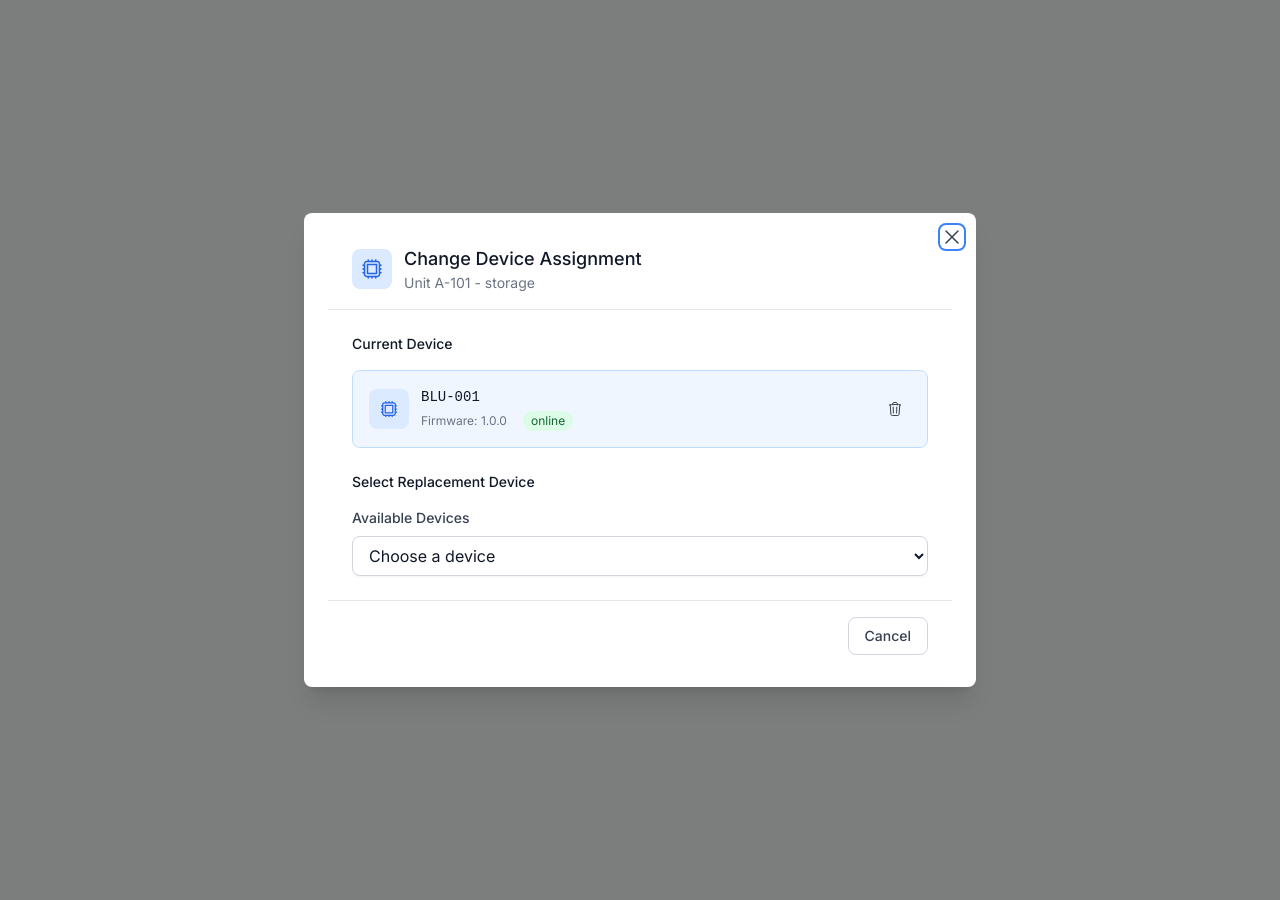
DeviceAssignmentModal › Change Device Flow › should show "Change Device" button when unit has device and new device selected
# Select a new device
Select "BLU-002 (v1.1.0) - Test Facility - online" in the dropdown: (640, 556) [352,536,928,576]
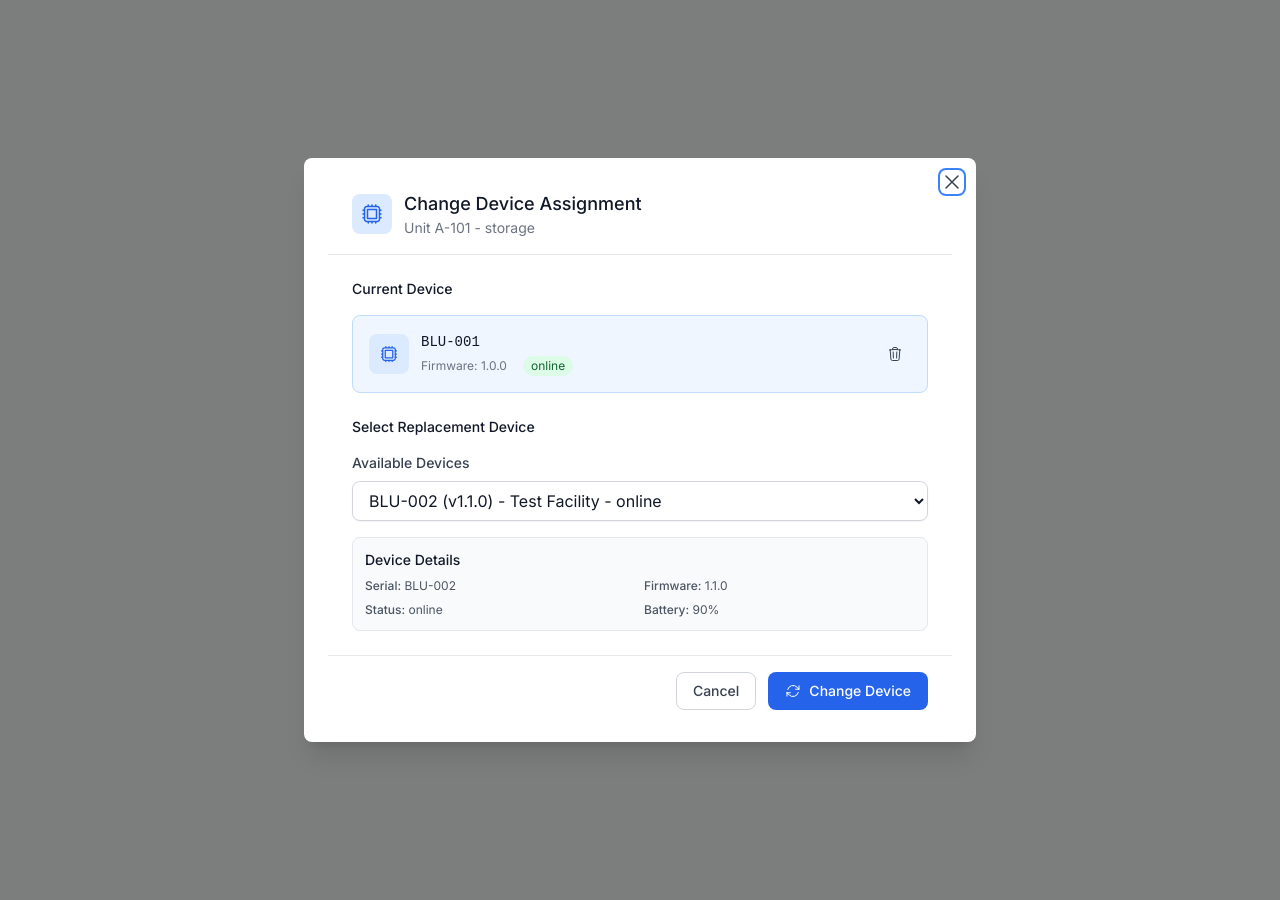
Result: the button "Change Device" is shown at [768,672,928,710]
